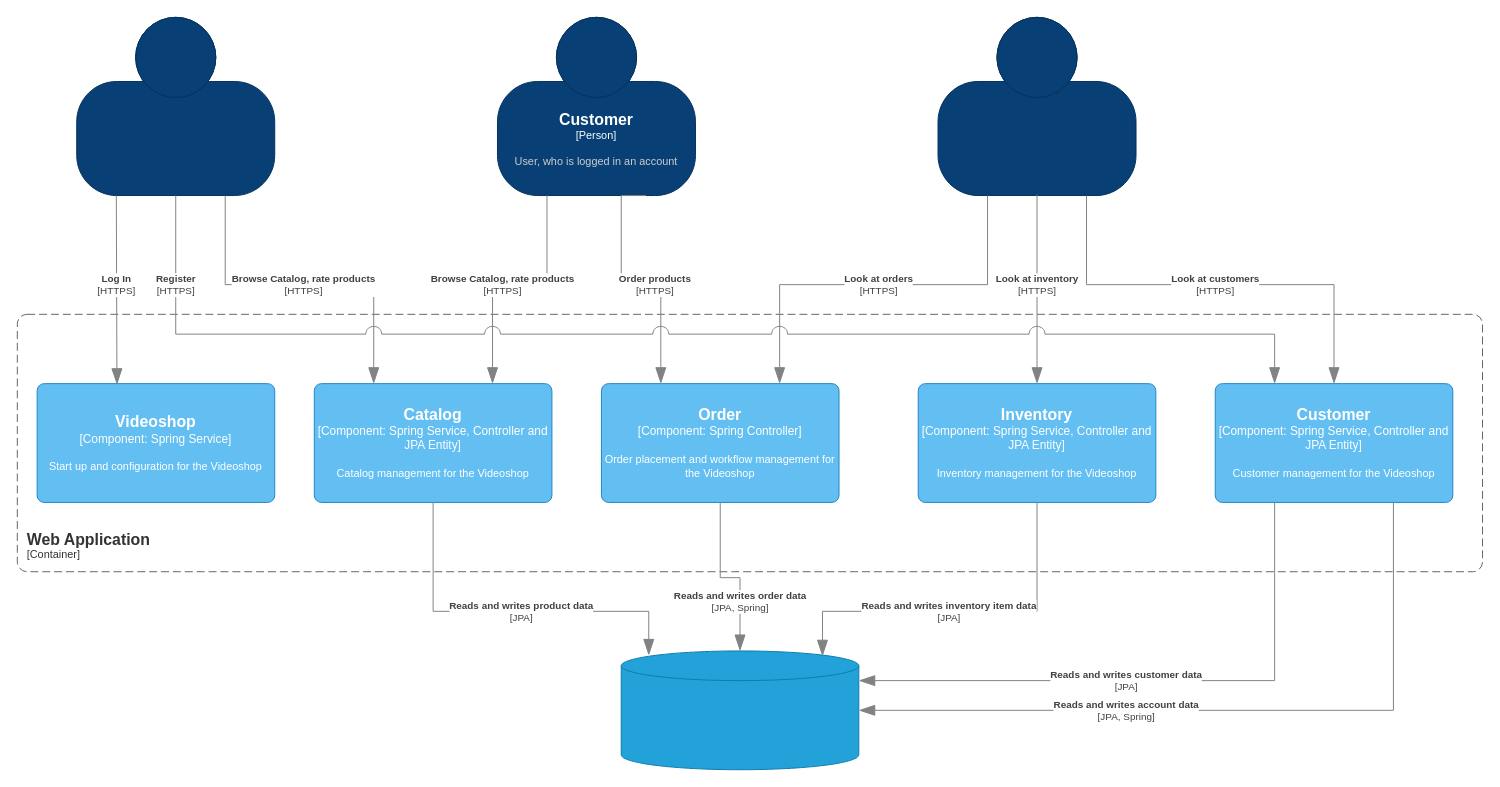
Some shapes in this 1500 by 787 pixel diagram are drawn without their labels. Each missing label, with the box of its shape:
Boss [Person] Administrator of the application: (937, 16, 1136, 196)
Database [Container: H2] Database of the Videoshop: (620, 650, 859, 770)
Unauthenticated User [Person] A visitor of the shop: (76, 16, 275, 196)
